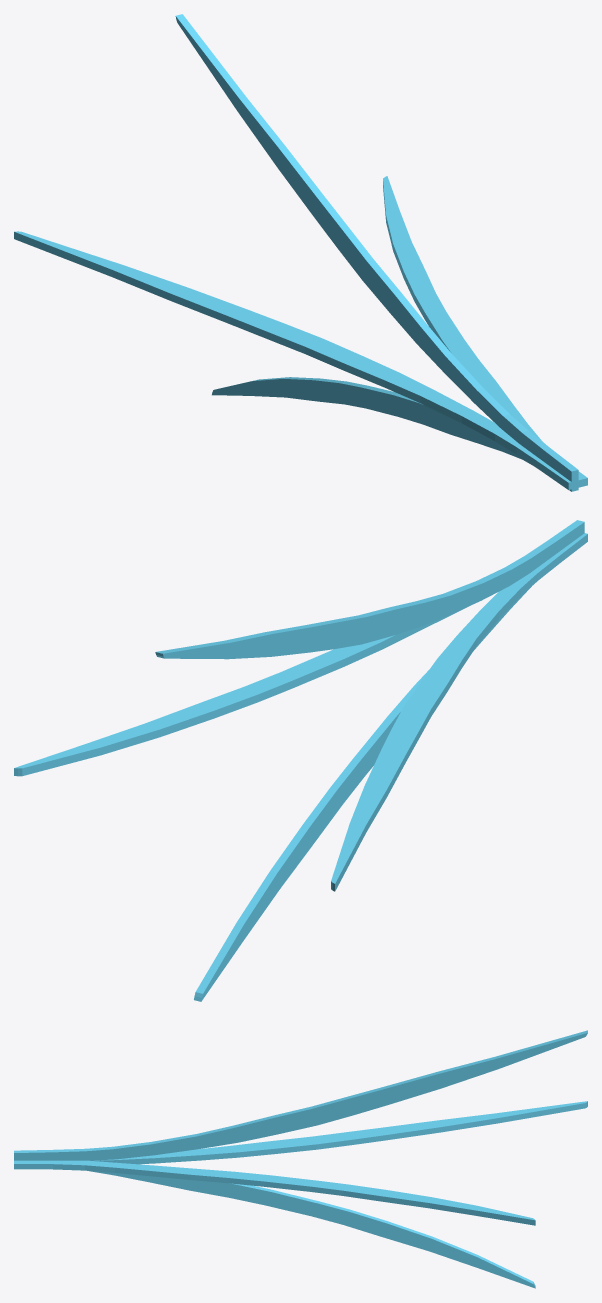
Rendered from petite_herbe.fbx.
The picture shows the model from 3 angles, top to bottom: view 1: azimuth 30°, elevation 25°; view 2: azimuth 150°, elevation 25°; view 3: azimuth 270°, elevation 25°; orthographic projection. The views are drawn at different scales.
Parts seen in each view (by area): view 1: pt_herbe; view 2: pt_herbe; view 3: pt_herbe.
Part boxes in pixels (x1,y1,x2,y2): pt_herbe: (14,14,587,491); pt_herbe: (14,520,587,1001); pt_herbe: (14,1030,587,1288).
Size of the model in its own units: 2.97 by 6.03 by 2.97.
